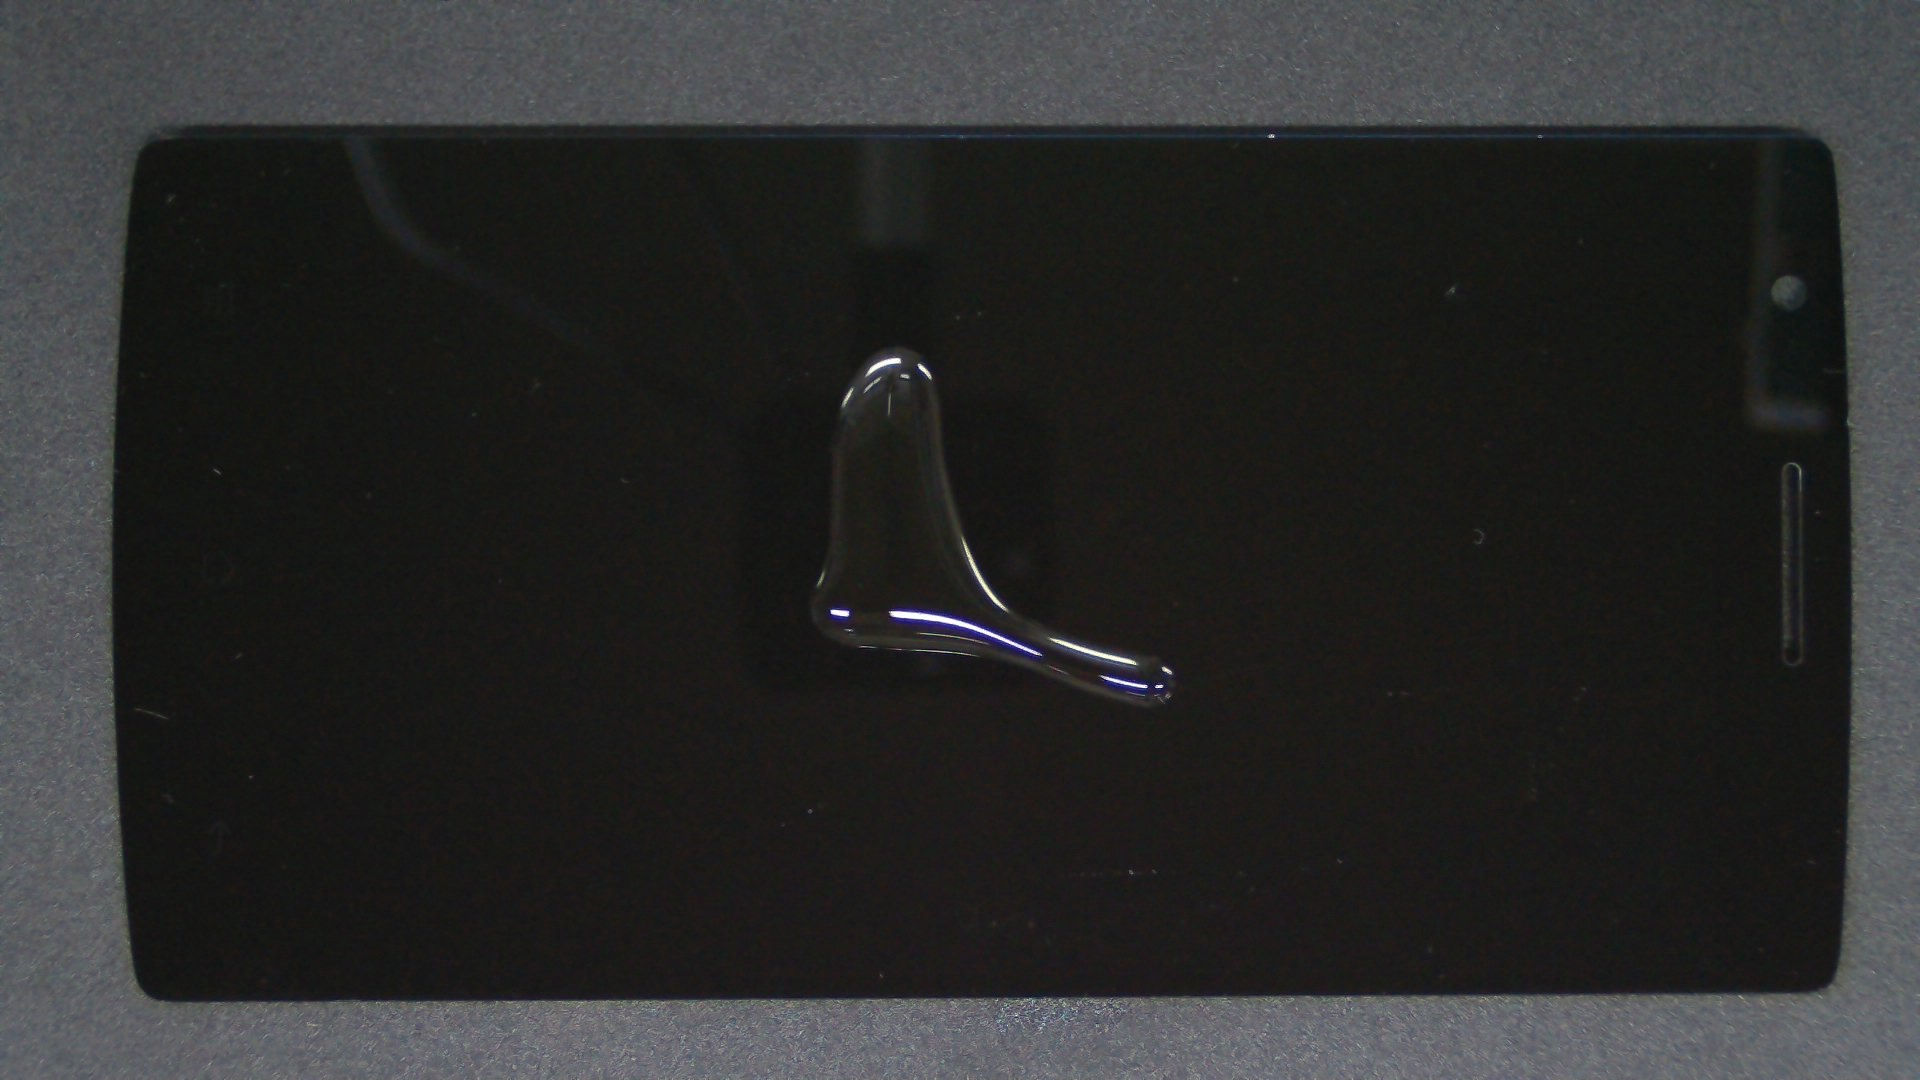oil: (446, 171, 1336, 518)
